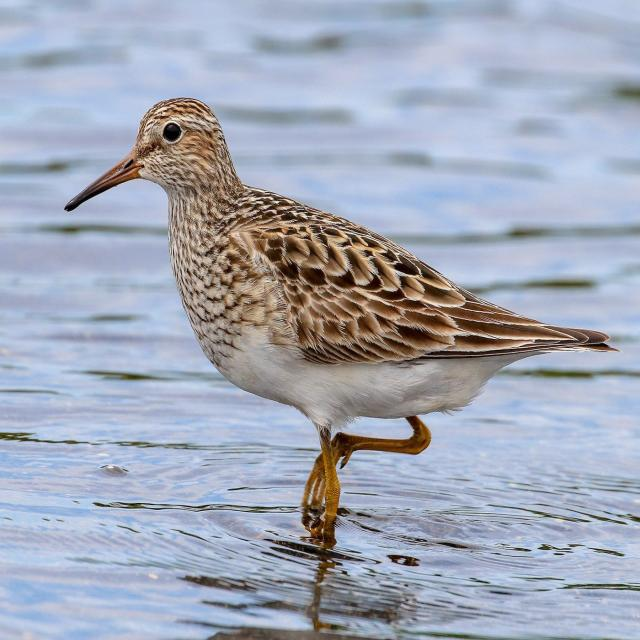Sandpiper: (63, 88, 617, 502)
